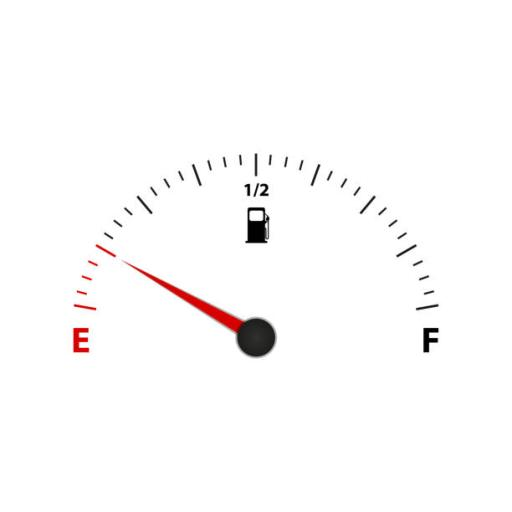empty: (66, 321, 93, 365)
fuel_icon: (240, 202, 275, 251)
full: (414, 322, 446, 357)
guage_area: (58, 145, 456, 393)
needle_center: (222, 298, 299, 378)
needle_tip: (119, 251, 146, 282)
